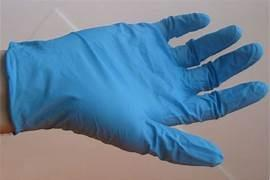Glove: (5, 13, 267, 165)
